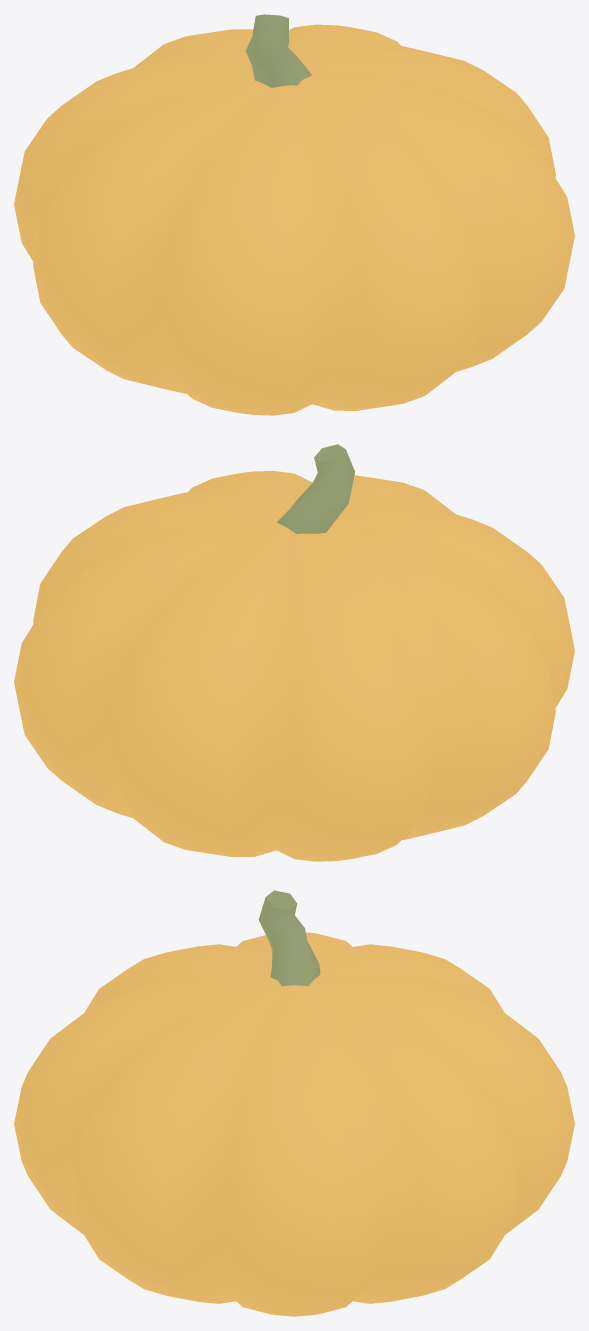
Rendered from Blender_Pumpkin_2.glb.
3 renders of one model, top to bottom at view 1: azimuth 30°, elevation 25°; view 2: azimuth 150°, elevation 25°; view 3: azimuth 270°, elevation 25°, orthographic. The views are drawn at different scales.
Visible parts, largest first — view 1: Blender_Pumpkin_2; view 2: Blender_Pumpkin_2; view 3: Blender_Pumpkin_2.
Part boxes in pixels (box(x1,y1,x2,y2)): Blender_Pumpkin_2: box(14, 14, 574, 415); Blender_Pumpkin_2: box(14, 444, 574, 861); Blender_Pumpkin_2: box(14, 890, 574, 1316).
Bounding box in the file's own units: 1.38 × 0.9714 × 1.38.
